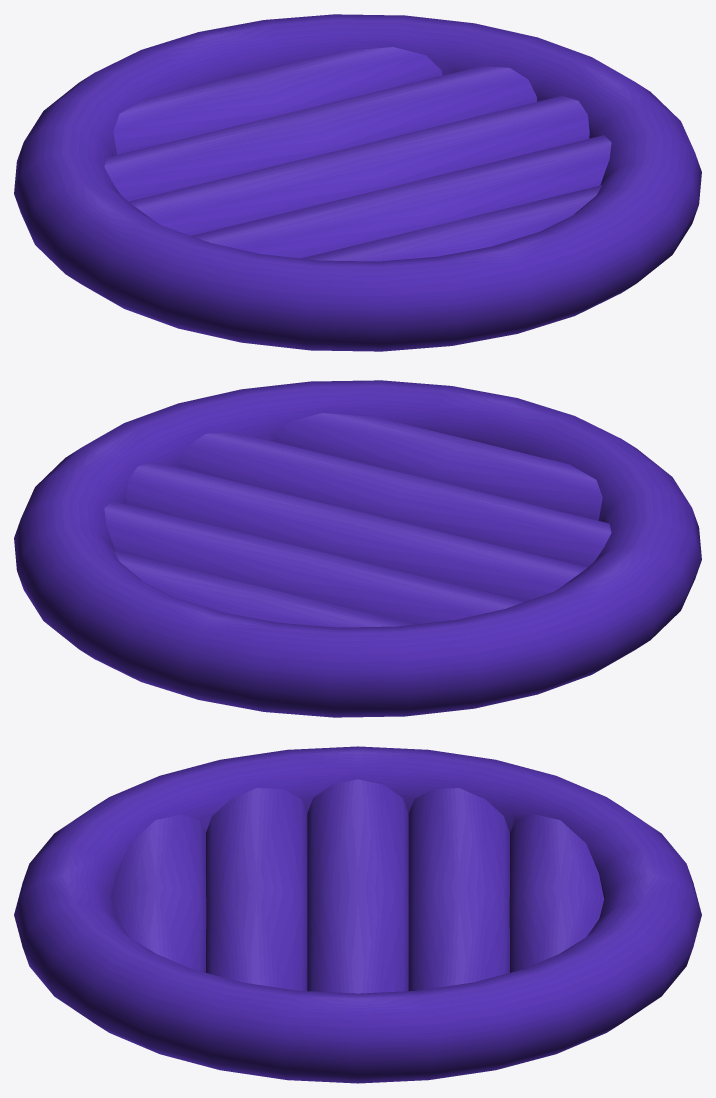
Rendered from tube_round_blue.fbx.
The picture shows the model from 3 angles, top to bottom: view 1: azimuth 30°, elevation 25°; view 2: azimuth 150°, elevation 25°; view 3: azimuth 270°, elevation 25°; orthographic projection.
Visible parts, largest first — view 1: tube_round_blue; view 2: tube_round_blue; view 3: tube_round_blue.
Boxes of the visible parts, x1,y1,x2,y2 form: tube_round_blue: [14, 14, 701, 351]; tube_round_blue: [14, 380, 701, 717]; tube_round_blue: [14, 746, 701, 1083].
Bounding box in the file's own units: 80 × 10.09 × 80.
